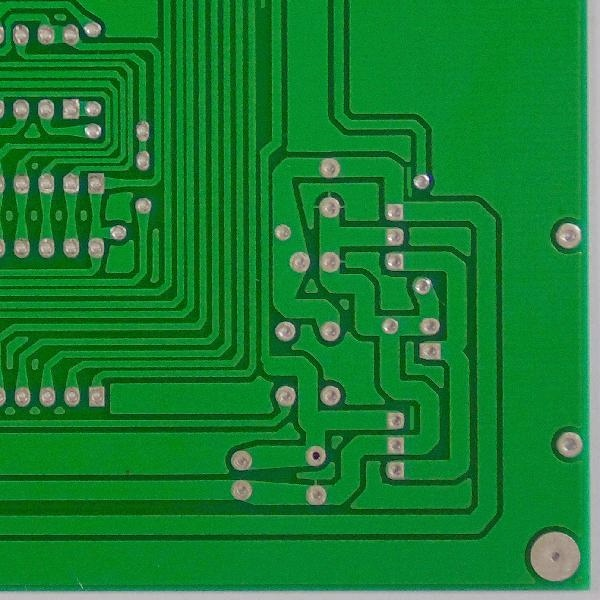spurious_copper: (404, 163, 417, 199), (403, 402, 418, 432)
